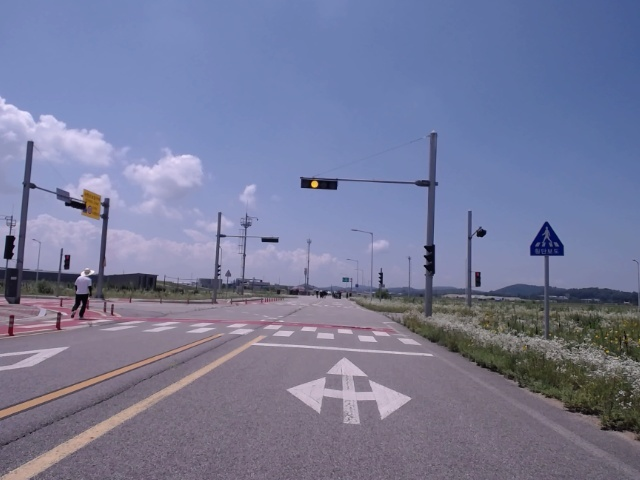orange_4: (302, 177, 339, 189)
